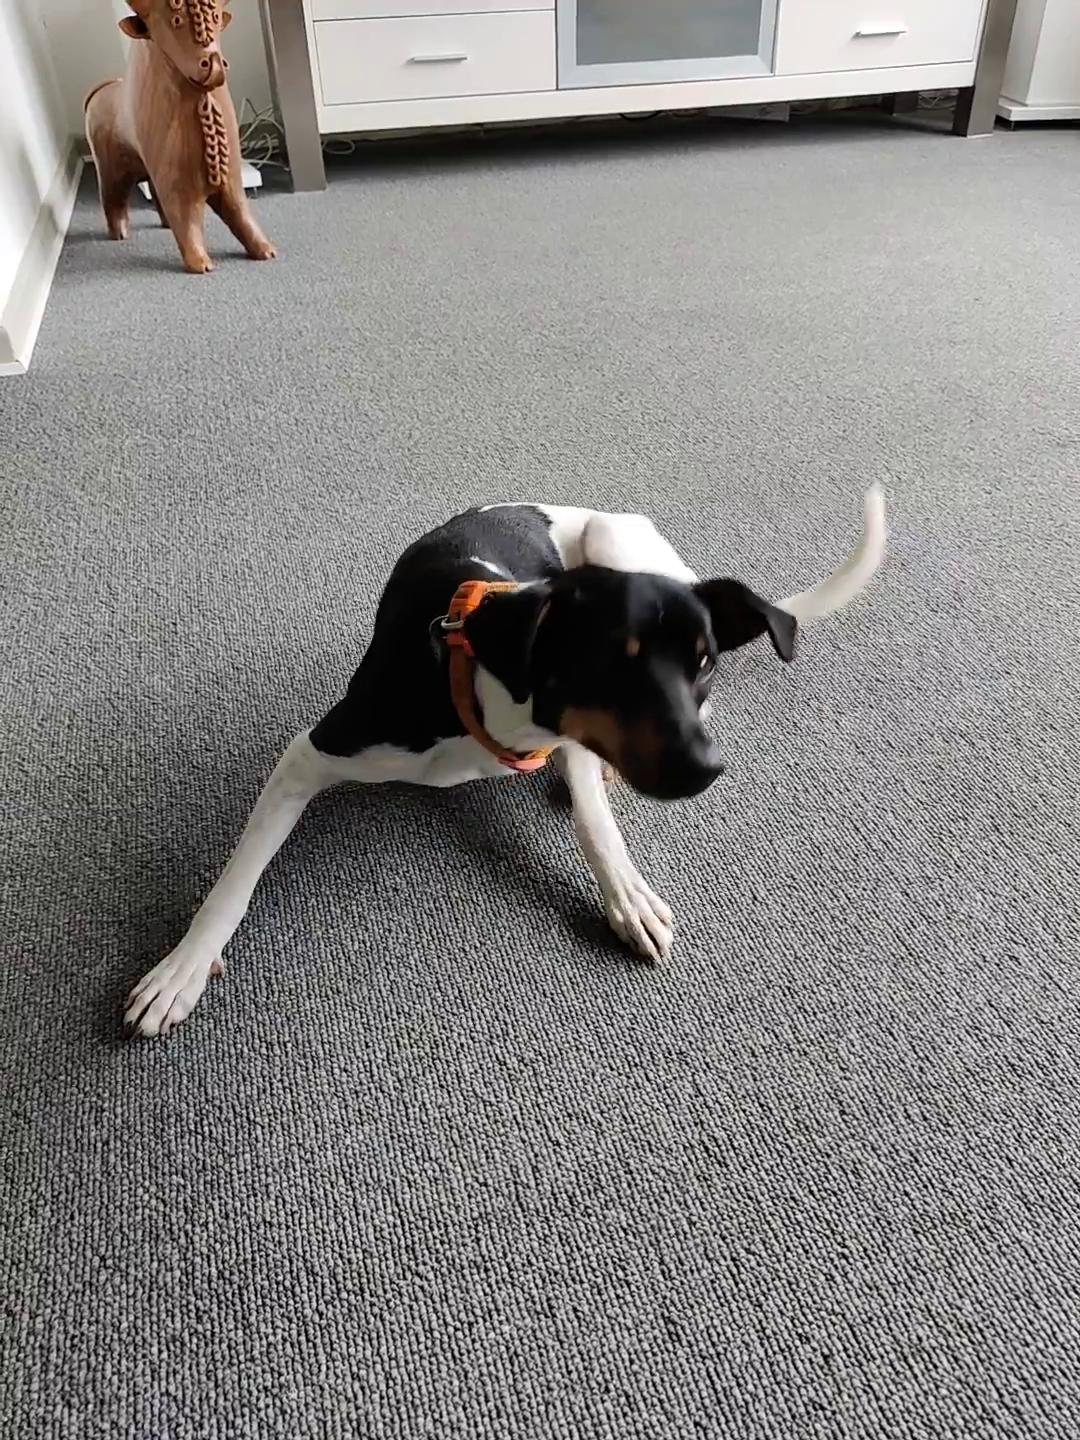Dog: (102, 475, 897, 1045)
